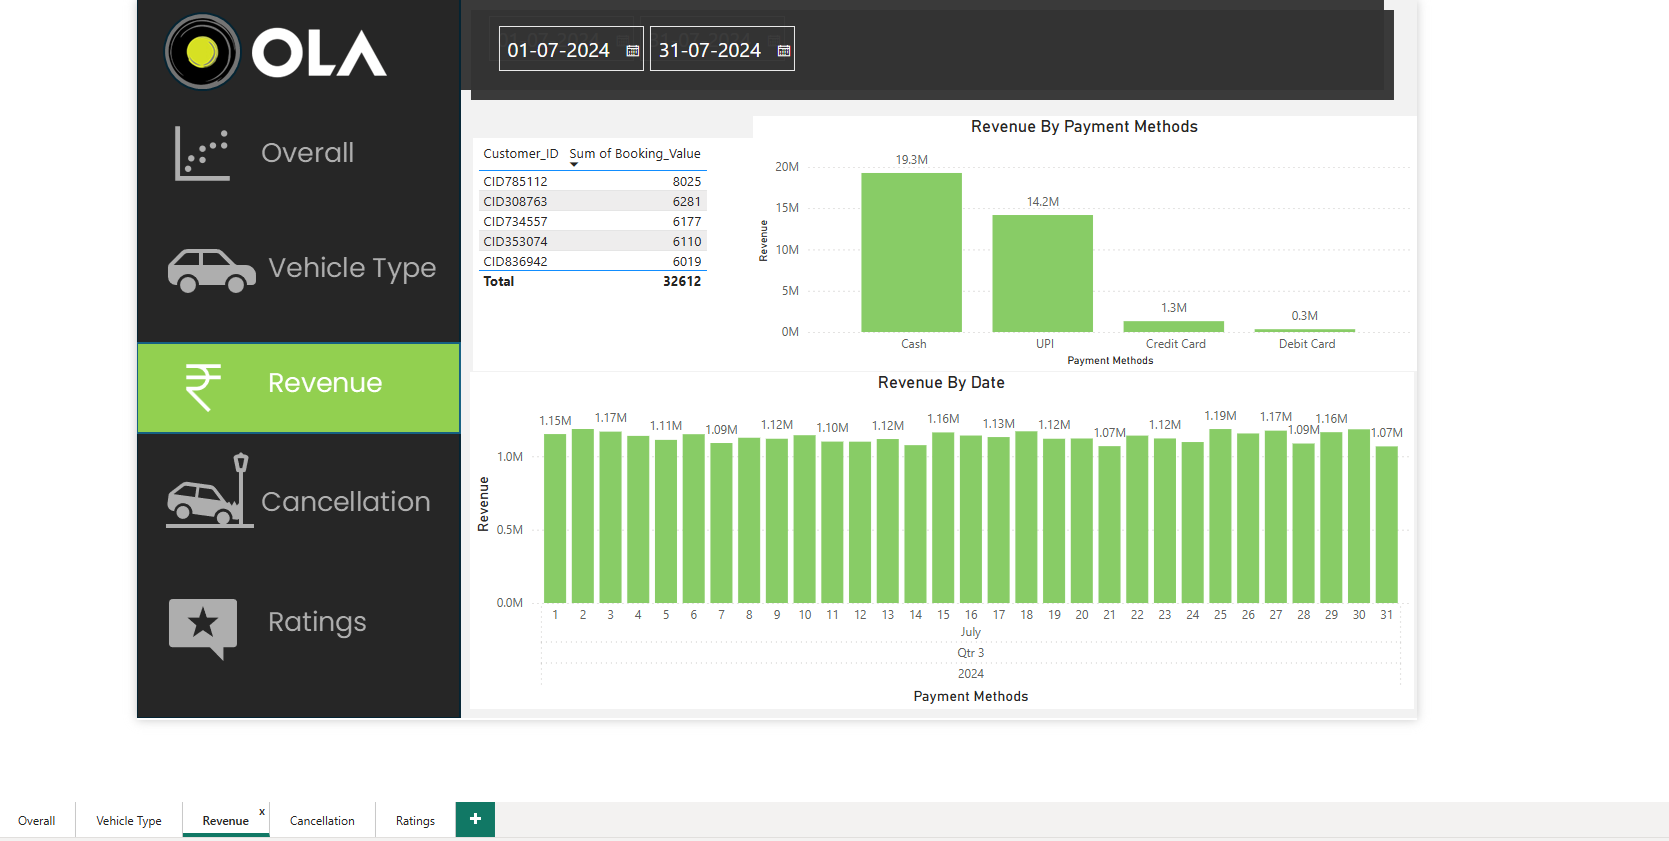

The dashboard page shown, as its layout file describes it:
{"tool":"powerbi","page":{"name":"Revenue","canvas":[1280,720],"ordinal":2},"visuals":[{"type":"actionButton","box":[0,220.7,324.1,91.8],"z":0},{"type":"actionButton","box":[0,312.5,324.1,119.6],"z":1000},{"type":"actionButton","box":[0,116.2,324.1,104.5],"z":2000},{"type":"actionButton","box":[0,432.1,324.1,131.3],"z":3000},{"type":"actionButton","box":[0,563.3,324.1,131.3],"z":4000},{"type":"columnChart","title":"Revenue By Date","fields":{"Y":["Sum(Bookings-100000-Rows.Booking_Value)"],"Category":["Bookings-100000-Rows.Date.Variation.Date Hierarchy.Year","Bookings-100000-Rows.Date.Variation.Date Hierarchy.Quarter","Bookings-100000-Rows.Date.Variation.Date Hierarchy.Month","Bookings-100000-Rows.Date.Variation.Date Hierarchy.Day"]},"box":[333.5,372.3,943.3,336.7],"z":5000},{"type":"slicer","title":"Date","fields":{"Values":["Bookings-100000-Rows.Date"]},"box":[323.8,0,922.8,89.6],"z":6000},{"type":"tableEx","fields":{"Values":["Bookings-100000-Rows.Customer_ID","Sum(Bookings-100000-Rows.Booking_Value)"]},"box":[335.7,138.3,280.4,232.6],"z":7000},{"type":"slicer","title":"Date","fields":{"Values":["Bookings-100000-Rows.Date"]},"box":[333.8,10,922.8,89.6],"z":8000},{"type":"columnChart","title":"Revenue By Payment Methods","fields":{"Category":["Bookings-100000-Rows.Payment_Method"],"Y":["Sum(Bookings-100000-Rows.Booking_Value)"]},"box":[616.1,115.7,663.9,255.2],"z":9000}]}

Visuals, with their boxes on the page's 1280x720 design canvas (x1, y1, x2, y2). These are canvas units, not pixel positions in the 1669x841 screenshot, which may show the page scaled, cropped or inside an application window:
actionButton: locate(0, 221, 324, 312)
actionButton: locate(0, 312, 324, 432)
actionButton: locate(0, 116, 324, 221)
actionButton: locate(0, 432, 324, 563)
actionButton: locate(0, 563, 324, 695)
"Revenue By Date" columnChart: locate(334, 372, 1277, 709)
"Date" slicer: locate(324, 0, 1247, 90)
tableEx - Bookings-100000-Rows.Customer_ID x Sum(Bookings-100000-Rows.Booking_Value): locate(336, 138, 616, 371)
"Date" slicer: locate(334, 10, 1257, 100)
"Revenue By Payment Methods" columnChart: locate(616, 116, 1280, 371)
